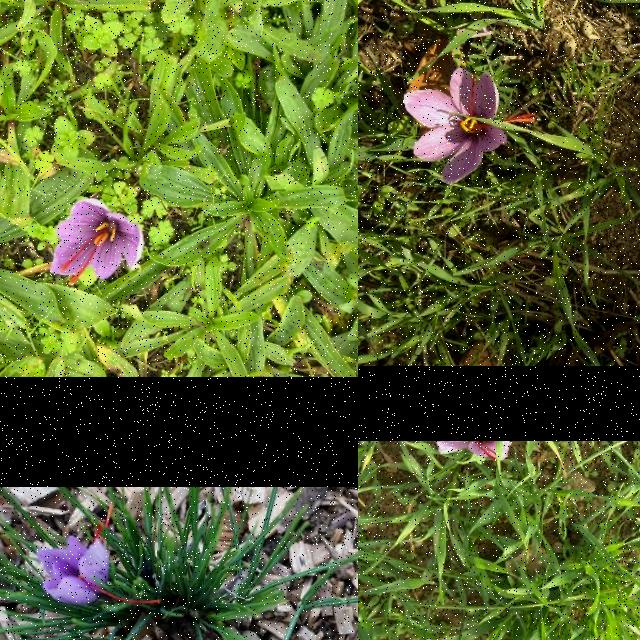flower: (404, 68, 536, 184), (36, 504, 160, 604), (50, 198, 144, 286), (434, 441, 511, 462)
